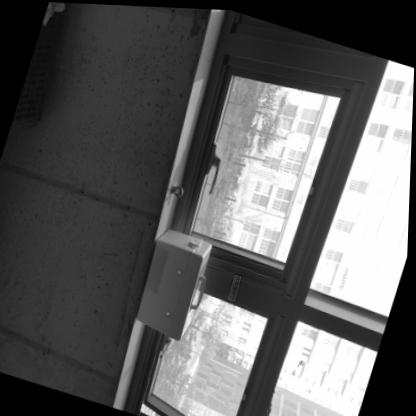DDL: (132, 223, 221, 342)
